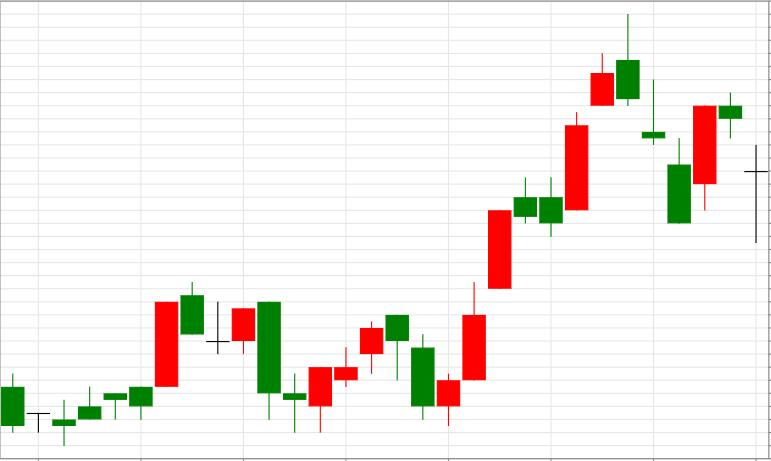shooting_star_fall: (436, 14, 640, 426)
